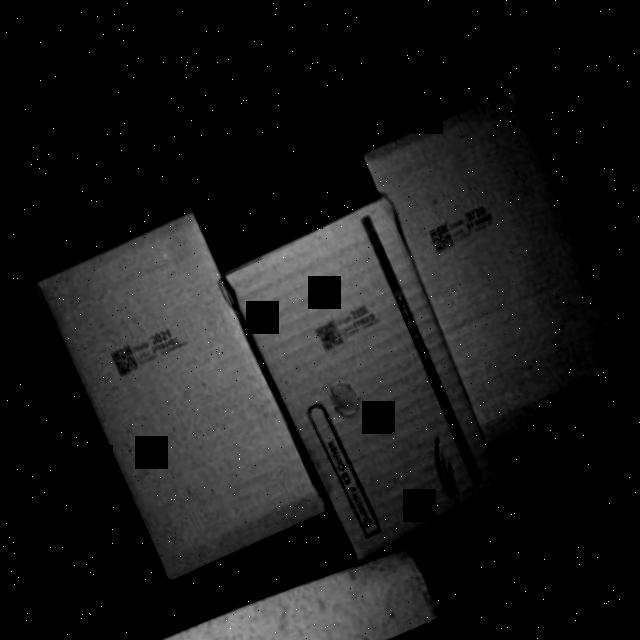box: (32, 206, 334, 584), (356, 80, 640, 448), (224, 204, 514, 564)
